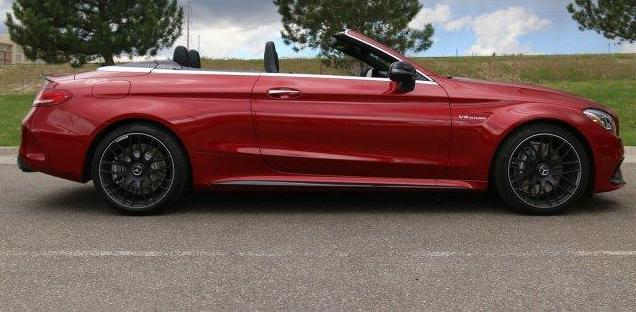C63AMG: (18, 27, 629, 216)
